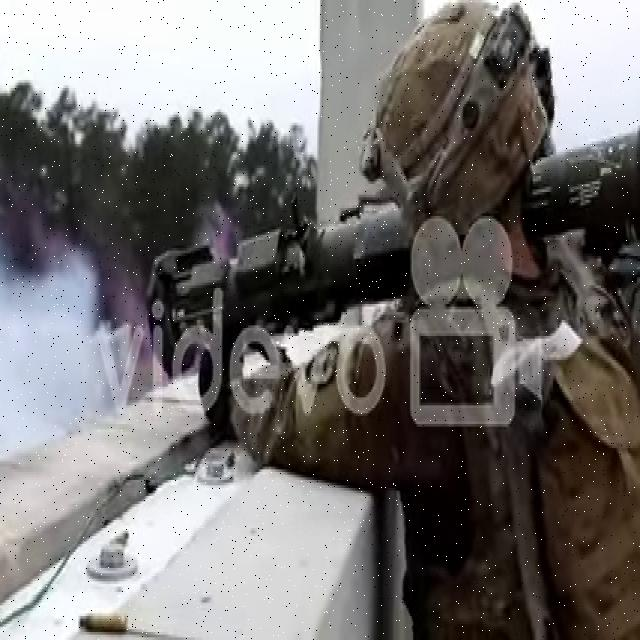bazooka: (142, 109, 640, 384)
